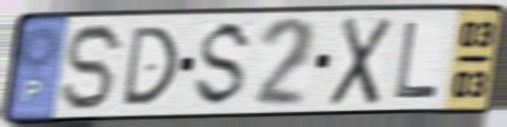2: (252, 15, 319, 112)
D: (118, 23, 181, 109)
L: (392, 19, 441, 100)
S: (58, 20, 129, 114), (190, 17, 256, 110)
X: (326, 14, 397, 109)
